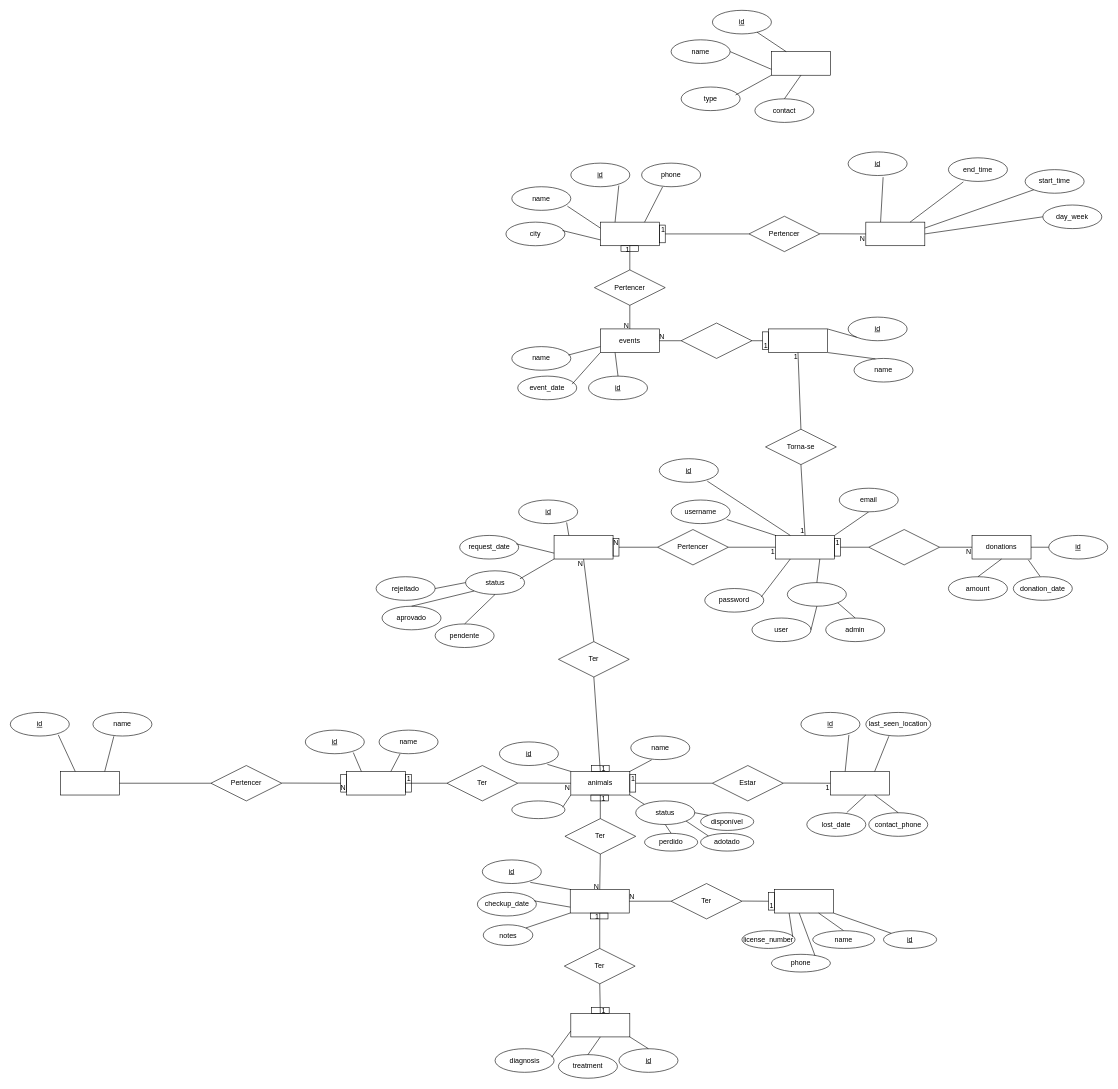
Image size: 1118x1089. Some labels were removed from this diagram. The box of each missing label's shape, as (x1, y1, x2, y2) in pixels:
adoption_process: (553, 535, 613, 559)
age: (511, 800, 565, 819)
breeds: (346, 771, 406, 795)
checkups: (570, 889, 629, 913)
Fazer: (868, 529, 940, 565)
horary: (865, 222, 925, 246)
lost_animals: (830, 771, 889, 795)
participants: (768, 328, 827, 353)
Participar: (681, 322, 752, 358)
partners: (771, 51, 830, 75)
results: (570, 1013, 630, 1037)
role: (787, 582, 846, 606)
species: (60, 771, 119, 795)
users: (775, 535, 835, 559)
veterinarians: (774, 889, 833, 913)
volunteers: (600, 222, 659, 246)
